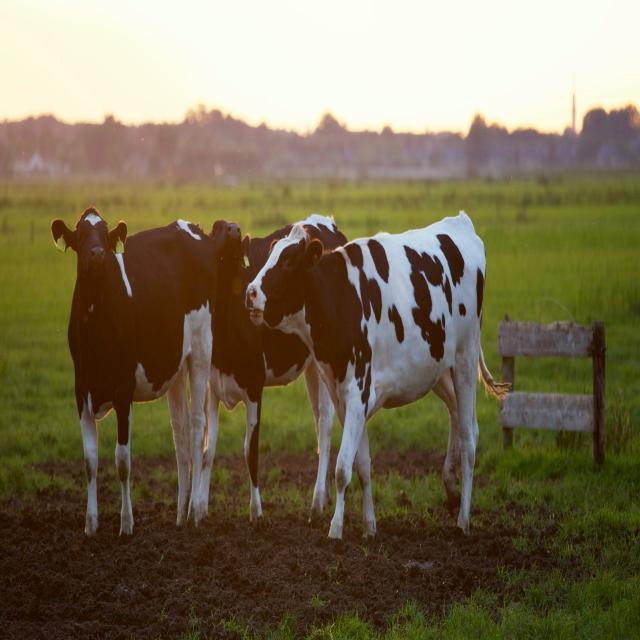cow: (250, 212, 497, 482), (205, 194, 375, 486), (55, 219, 227, 489)
